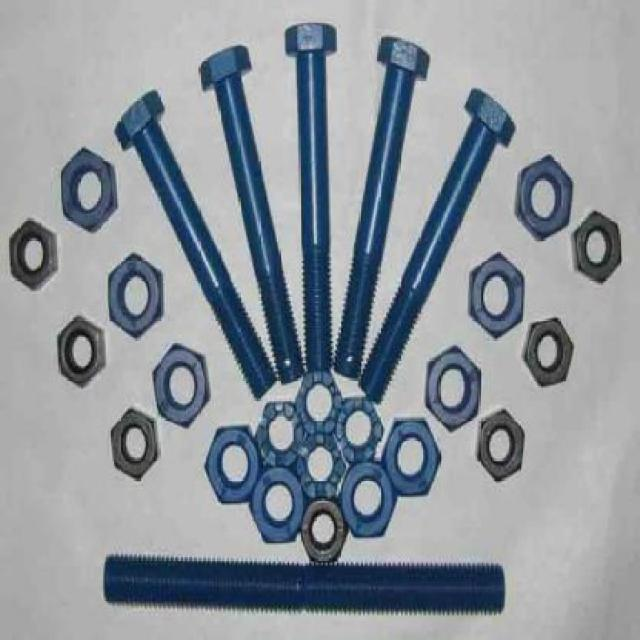Bolt: (358, 86, 518, 404), (115, 90, 278, 399), (198, 43, 306, 386), (334, 35, 431, 380), (284, 21, 338, 373)
Nut: (380, 414, 444, 498), (58, 146, 119, 234), (106, 252, 167, 340), (466, 250, 526, 339), (515, 152, 574, 241), (424, 344, 482, 434), (152, 342, 211, 429), (203, 424, 264, 502), (340, 461, 398, 539), (249, 466, 306, 544), (571, 208, 624, 286), (474, 408, 528, 483), (522, 315, 576, 389), (330, 395, 387, 464), (8, 216, 58, 292), (110, 407, 160, 482), (55, 315, 106, 388), (294, 432, 346, 499), (255, 401, 307, 467), (299, 496, 349, 563), (293, 368, 343, 434)
